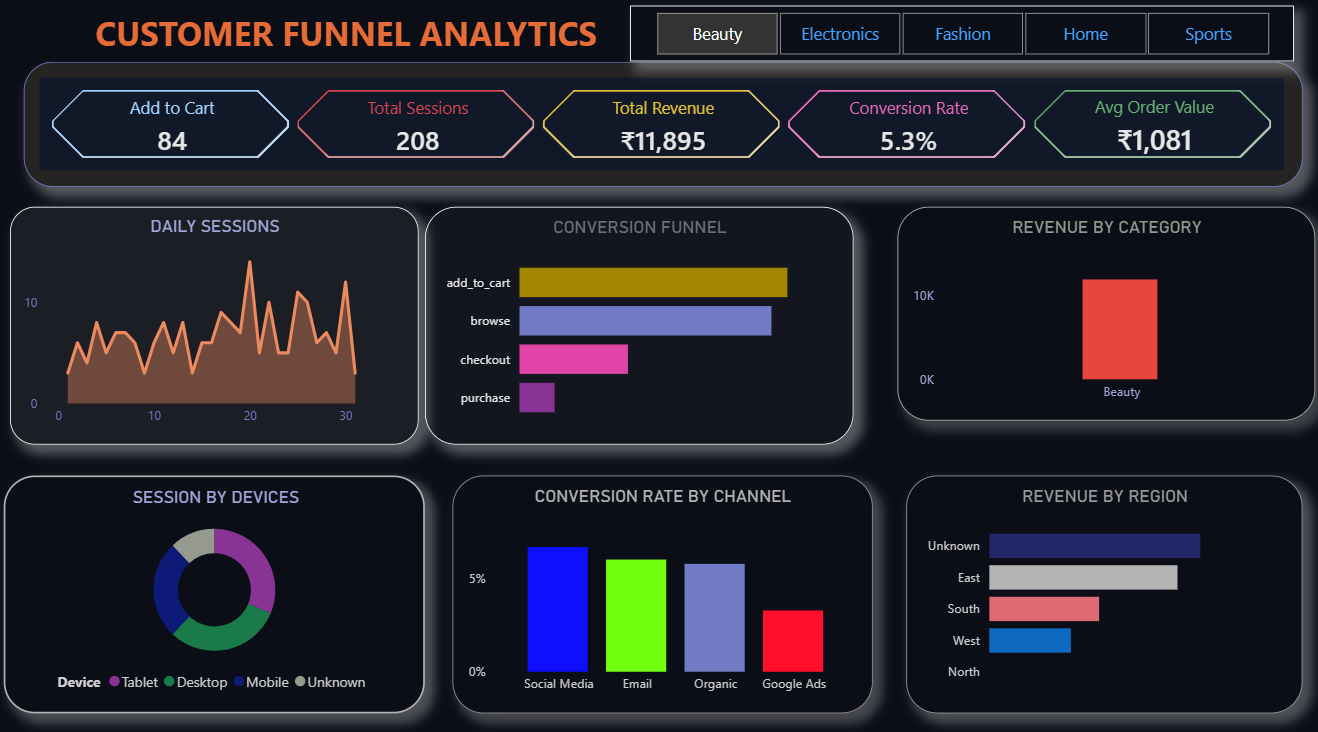

Layout of this report page (visuals, bound fields, positions):
{"tool":"powerbi","page":{"name":"Page 1","canvas":[1280,720],"ordinal":0},"visuals":[{"type":"areaChart","title":"DAILY SESSIONS","fields":{"Category":["clean__funnel_data.timestamp.Variation.Date Hierarchy.Day"],"Y":["clean__funnel_data.Total Session"]},"box":[9.7,206.3,394.5,229.2],"z":0},{"type":"clusteredBarChart","title":"CONVERSION FUNNEL","fields":{"Category":["clean__funnel_data.Event"],"Y":["clean__funnel_data.Total Session"]},"box":[410.2,206.3,413.8,229.2],"z":1000},{"type":"cardVisual","fields":{"Data":["clean__funnel_data.Add to Cart","clean__funnel_data.Total Sessions","clean__funnel_data.Total Revenue","clean__funnel_data.Conversion Rate","clean__funnel_data.Avg Order Value"]},"box":[22.9,66.4,1234.2,120.6],"z":2000},{"type":"clusteredColumnChart","title":"CONVERSION RATE BY CHANNEL","fields":{"Category":["clean__funnel_data.Channel"],"Y":["clean__funnel_data.Conversion Rate"]},"box":[436.7,465.7,405.4,229.2],"z":3000},{"type":"donutChart","title":"SESSION BY DEVICES","fields":{"Category":["clean__funnel_data.Device"],"Y":["clean__funnel_data.Total Session"]},"box":[3.6,465.7,406.6,229.2],"z":4000},{"type":"columnChart","title":"REVENUE BY CATEGORY","fields":{"Category":["clean__funnel_data.Product_Category"],"Y":["clean__funnel_data.Total__Revenue"]},"box":[866.2,206.3,403,206.3],"z":5000},{"type":"clusteredBarChart","title":"REVENUE BY REGION","fields":{"Category":["clean__funnel_data.Region"],"Y":["clean__funnel_data.Total__Revenue"]},"box":[874.7,465.7,382.4,229.2],"z":6000},{"type":"textbox","box":[44.6,12.1,579.1,54.3],"z":7000},{"type":"slicer","fields":{"Values":["clean__funnel_data.Product_Category"]},"box":[608,12.1,640.6,54.3],"z":8000}]}

Visuals, with their boxes in screenshot pixels (x1, y1, x2, y2), scaled from the page's 1280x720 canvas onto the 1318x732 screenshot:
"DAILY SESSIONS" areaChart: 10, 210, 416, 443
"CONVERSION FUNNEL" clusteredBarChart: 422, 210, 848, 443
cardVisual - clean__funnel_data.Add to Cart x clean__funnel_data.Total Sessions: 24, 68, 1294, 190
"CONVERSION RATE BY CHANNEL" clusteredColumnChart: 450, 473, 867, 706
"SESSION BY DEVICES" donutChart: 4, 473, 422, 706
"REVENUE BY CATEGORY" columnChart: 892, 210, 1307, 419
"REVENUE BY REGION" clusteredBarChart: 901, 473, 1294, 706
textbox: 46, 12, 642, 68
slicer - clean__funnel_data.Product_Category: 626, 12, 1286, 68
